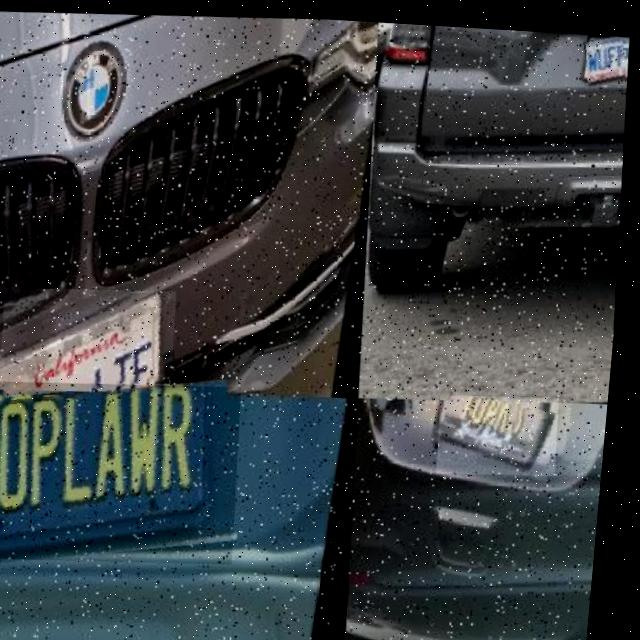LicensePlate: (0, 371, 254, 570), (8, 289, 178, 396), (442, 385, 569, 473), (588, 28, 627, 79)
